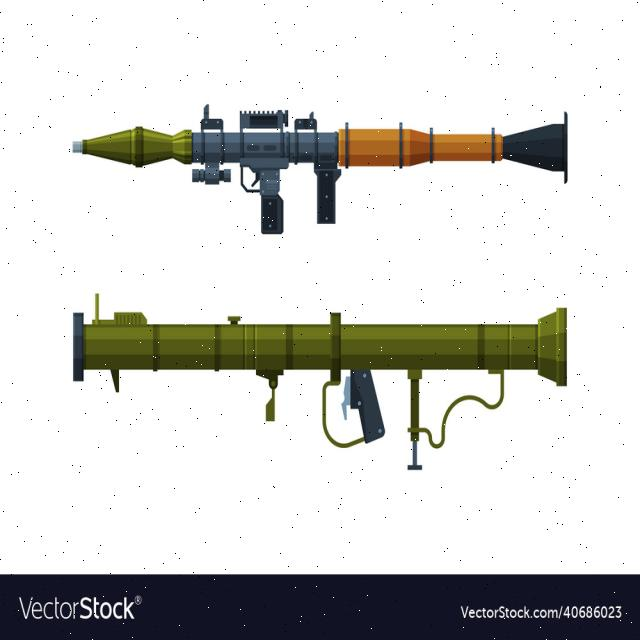bazooka: (67, 287, 584, 487), (71, 97, 575, 237)
